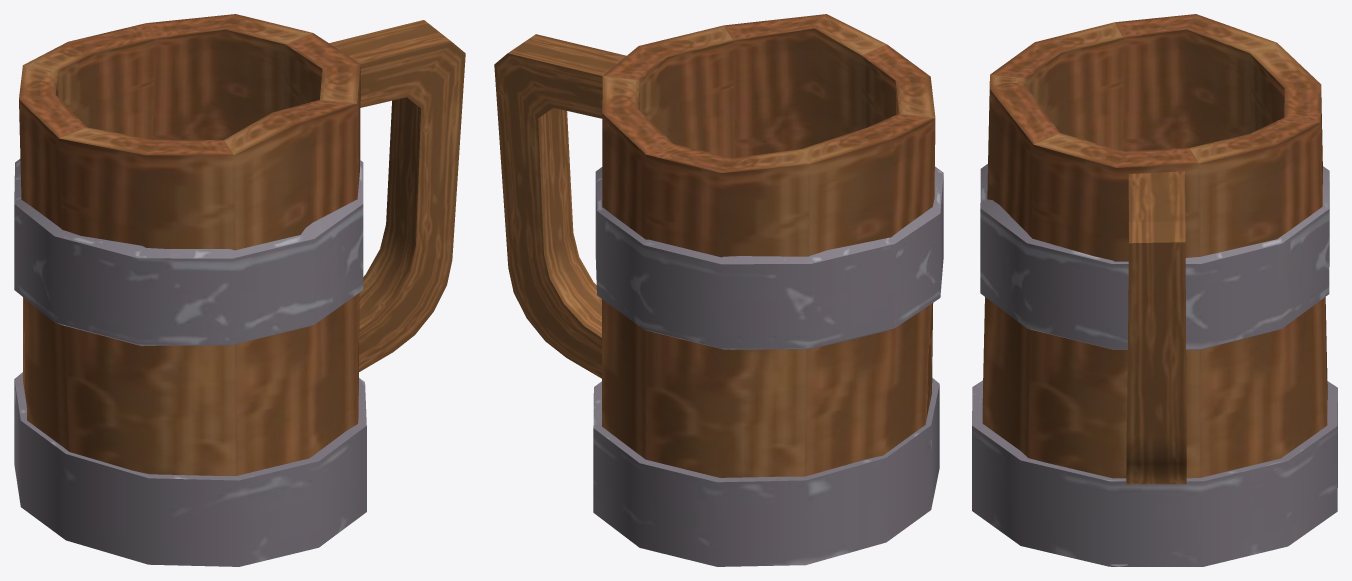
File: Mug.gltf
The picture shows the model from 3 angles, left to right: view 1: azimuth 30°, elevation 25°; view 2: azimuth 150°, elevation 25°; view 3: azimuth 270°, elevation 25°; orthographic projection. The views are drawn at different scales.
Visible parts, largest first — view 1: Mug; view 2: Mug; view 3: Mug.
Boxes of the visible parts, <box> form: Mug: <box>14,14,465,566</box>; Mug: <box>494,14,943,566</box>; Mug: <box>972,14,1337,566</box>.
Bounding box in the file's own units: 0.1921 × 0.1839 × 0.1468.
Materials: 2 (2 with a texture image).
